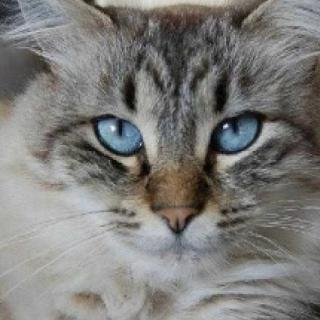cat: (13, 0, 320, 284)
nose: (144, 160, 211, 239)
